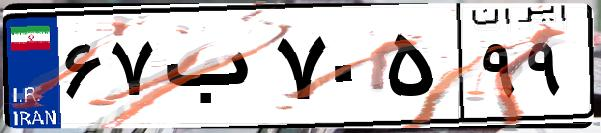0: (330, 28, 385, 110)
5: (385, 28, 445, 110)
6: (57, 26, 110, 100)
7: (270, 28, 330, 110), (110, 28, 158, 98)
9: (475, 38, 525, 113), (525, 38, 570, 115)
ب: (158, 20, 270, 120)
